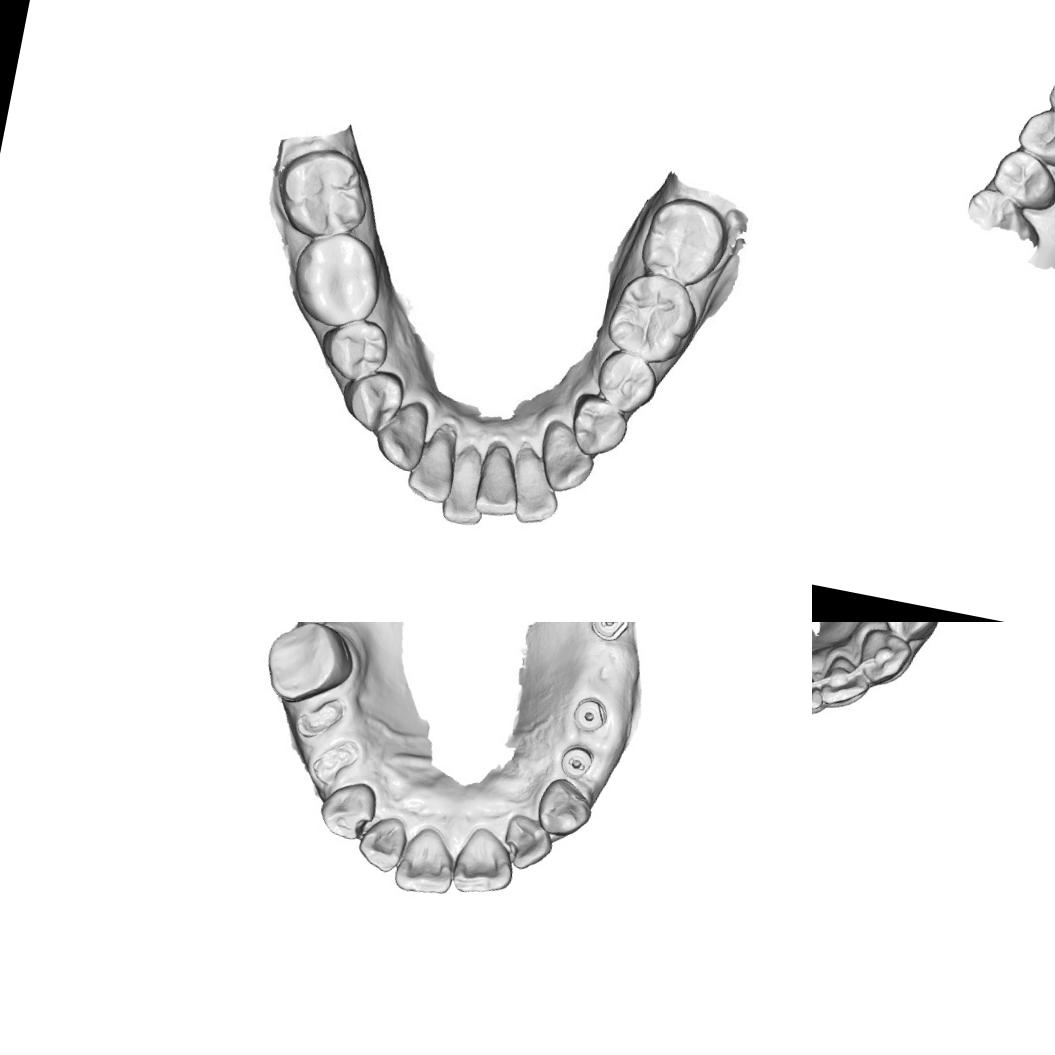canine: (532, 416, 600, 498), (368, 393, 433, 475), (314, 774, 381, 844), (532, 772, 598, 841), (852, 626, 916, 690), (1041, 61, 1055, 134)
implant: (568, 691, 613, 736)
implant_minus: (555, 741, 597, 783), (584, 622, 635, 646)
incisor: (447, 820, 522, 902), (390, 820, 463, 900), (502, 444, 568, 530), (436, 443, 495, 528), (402, 426, 460, 506), (470, 442, 528, 520), (497, 809, 558, 875), (354, 808, 412, 876), (821, 652, 872, 710), (812, 664, 831, 722)
molar: (268, 138, 378, 247), (283, 224, 390, 336), (600, 263, 705, 371), (635, 190, 730, 290), (256, 622, 360, 713)
premolar: (313, 311, 394, 387), (336, 363, 408, 436), (590, 346, 662, 417), (564, 389, 632, 464), (987, 144, 1055, 214), (1012, 101, 1055, 171), (879, 622, 946, 644)
